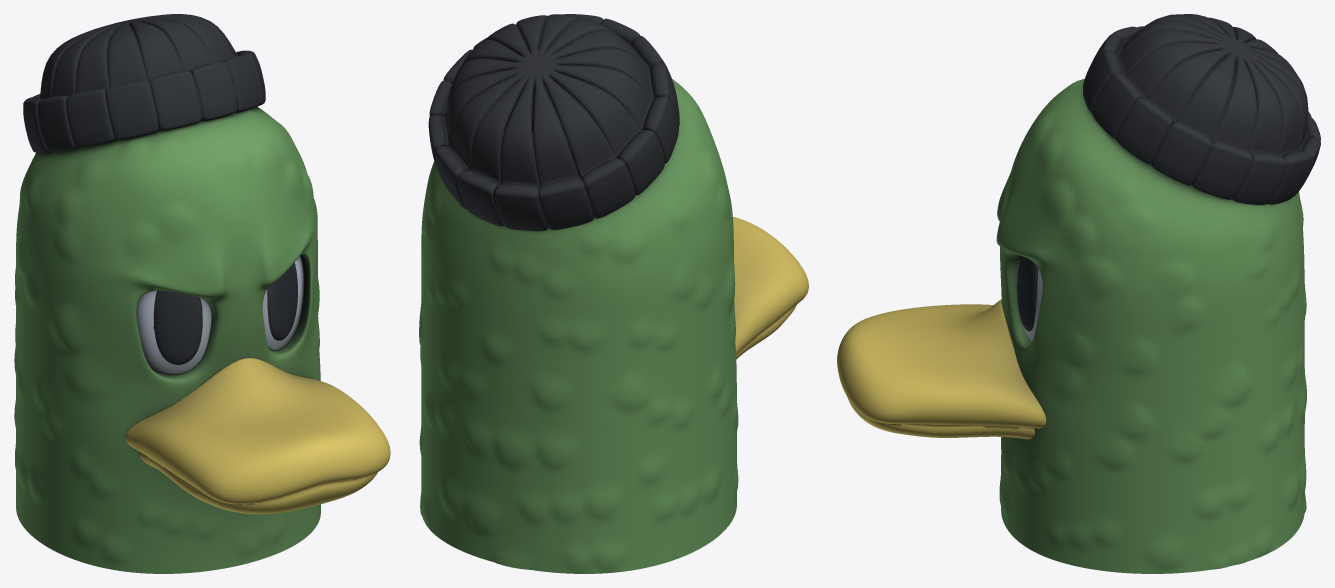
Rendered from eend.gltf.
3 views of the same model, side by side, from view 1: azimuth 30°, elevation 25°; view 2: azimuth 150°, elevation 25°; view 3: azimuth 270°, elevation 25° (orthographic). The views are drawn at different scales.
Parts seen in each view (by area): view 1: Retopo_eend013, snavelTop008, Muts008, Retopo_iris001, Retopo_oog001; view 2: Retopo_eend013, Muts008, snavelTop008; view 3: Retopo_eend013, Muts008, snavelTop008, Retopo_iris001.
Boxes of the visible parts, x1,y1,x2,y2 form: Retopo_eend013: [14, 106, 320, 573]; snavelTop008: [125, 357, 390, 514]; Muts008: [23, 14, 265, 153]; Retopo_iris001: [154, 262, 297, 364]; Retopo_oog001: [136, 255, 304, 374]; Retopo_eend013: [419, 79, 738, 573]; Muts008: [428, 14, 679, 231]; snavelTop008: [733, 216, 808, 359]; Retopo_eend013: [996, 79, 1306, 573]; Muts008: [1083, 14, 1320, 204]; snavelTop008: [837, 299, 1046, 439]; Retopo_iris001: [1017, 255, 1038, 330].
Size of the model in its own units: 0.166 by 0.287 by 0.2613.
6 materials, 6 textured.
